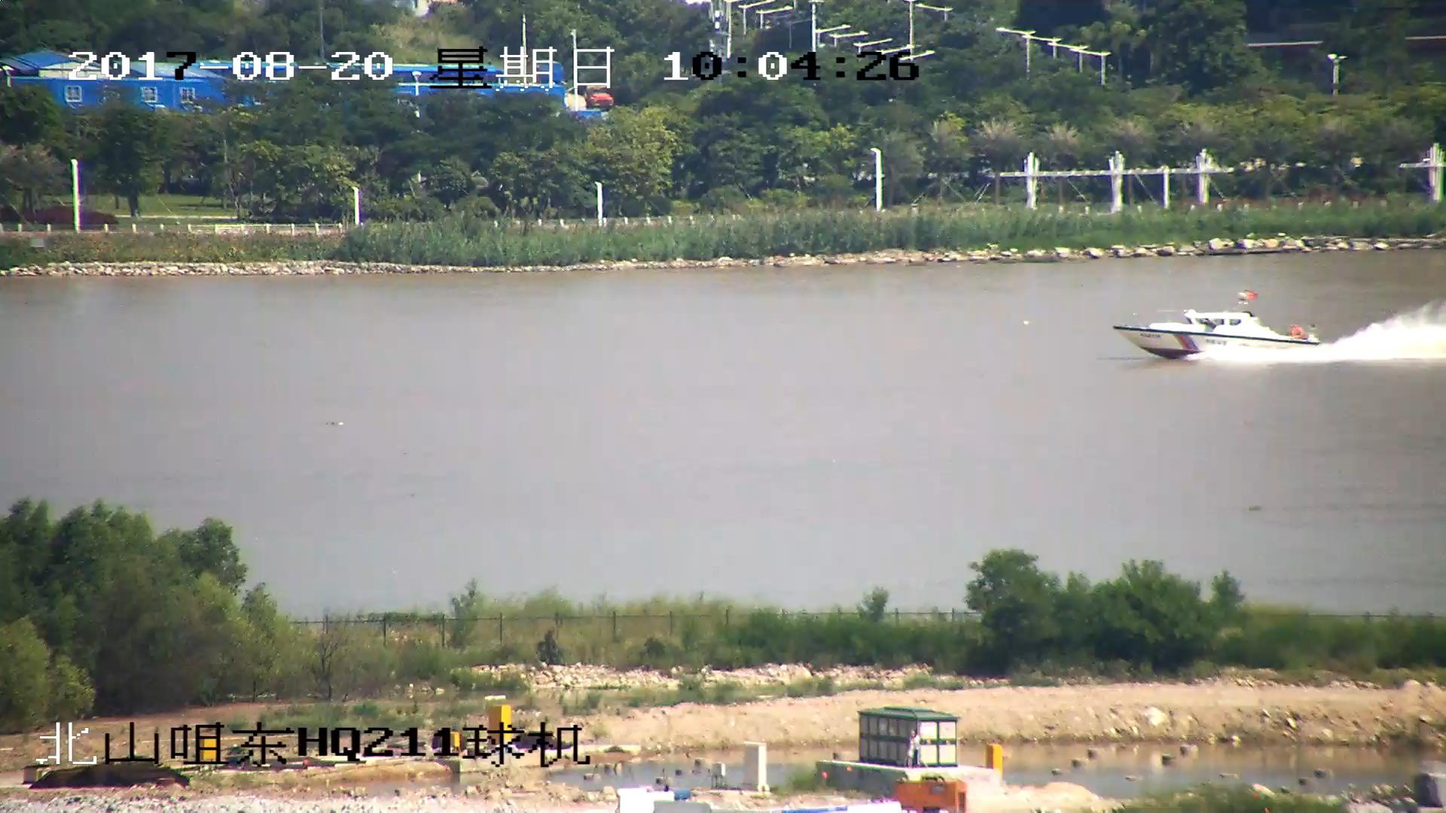passenger ship: (1117, 297, 1319, 358)
